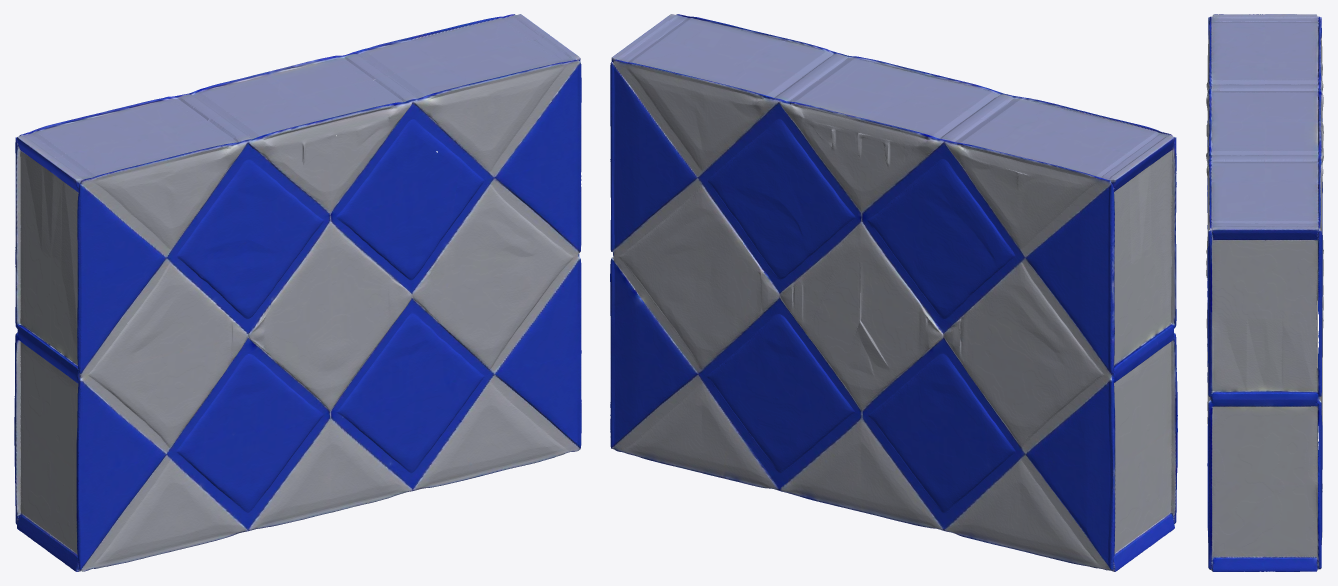
File: rectangulo3d.glb
The picture shows the model from 3 angles, left to right: view 1: azimuth 30°, elevation 25°; view 2: azimuth 150°, elevation 25°; view 3: azimuth 270°, elevation 25°; orthographic projection. The views are drawn at different scales.
Parts seen in each view (by area): view 1: tripo_node_ac3f6bf9-b502-46bf-9511-36a0fe44742e; view 2: tripo_node_ac3f6bf9-b502-46bf-9511-36a0fe44742e; view 3: tripo_node_ac3f6bf9-b502-46bf-9511-36a0fe44742e.
Part boxes in pixels (x1=…): tripo_node_ac3f6bf9-b502-46bf-9511-36a0fe44742e: x1=14, y1=14, x2=581, y2=571; tripo_node_ac3f6bf9-b502-46bf-9511-36a0fe44742e: x1=610, y1=14, x2=1177, y2=571; tripo_node_ac3f6bf9-b502-46bf-9511-36a0fe44742e: x1=1206, y1=14, x2=1323, y2=571.
Size of the model in its own units: 0.9999 by 0.7478 by 0.2313.
Materials: 1 (1 with a texture image).
